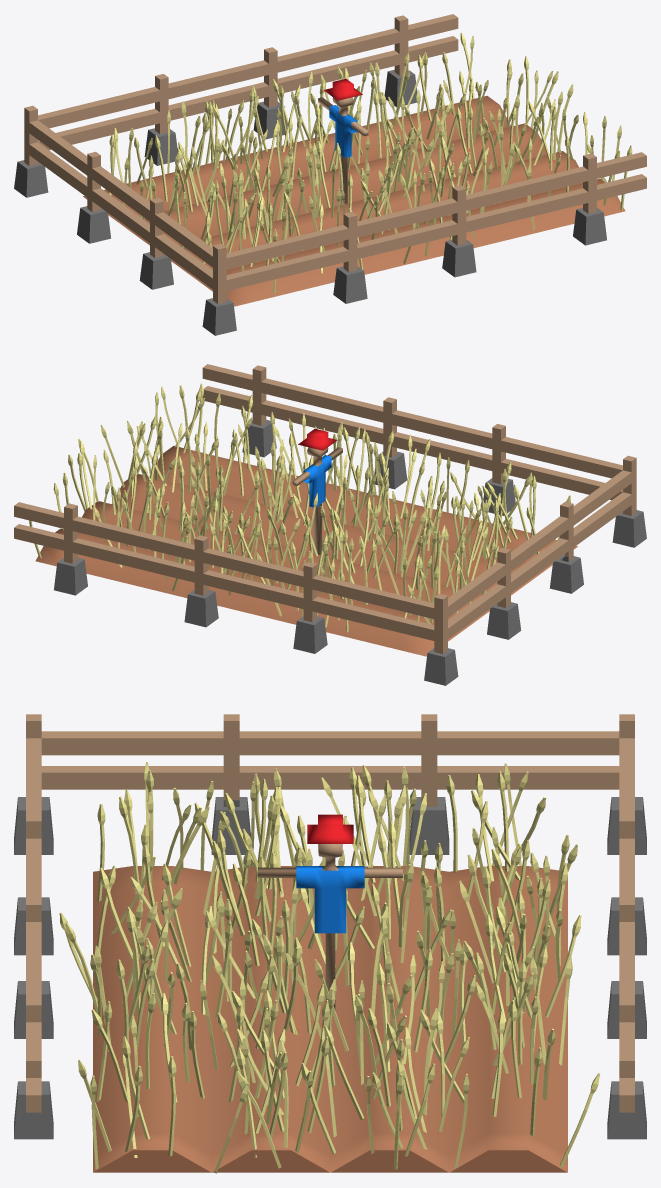
Rendered from Farm Cap New.fbx.
3 renders of one model, top to bottom at view 1: azimuth 30°, elevation 25°; view 2: azimuth 150°, elevation 25°; view 3: azimuth 270°, elevation 25°, orthographic. The views are drawn at different scales.
Visible parts, largest first — view 1: Farm Cap; view 2: Farm Cap; view 3: Farm Cap.
Part boxes in pixels (box(x1,y1,x2,y2)): Farm Cap: box(14, 14, 646, 335); Farm Cap: box(14, 364, 646, 685); Farm Cap: box(14, 714, 646, 1173).
Bounding box in the file's own units: 87.26 × 22.73 × 66.67.
